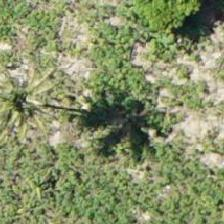coconut_tree: (0, 55, 64, 145)
